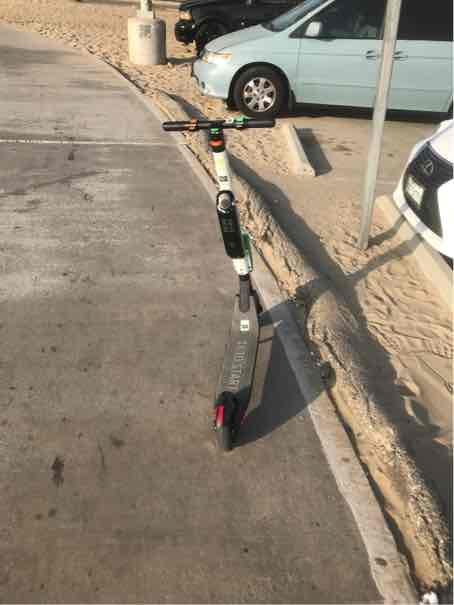scooter: (141, 96, 302, 461)
